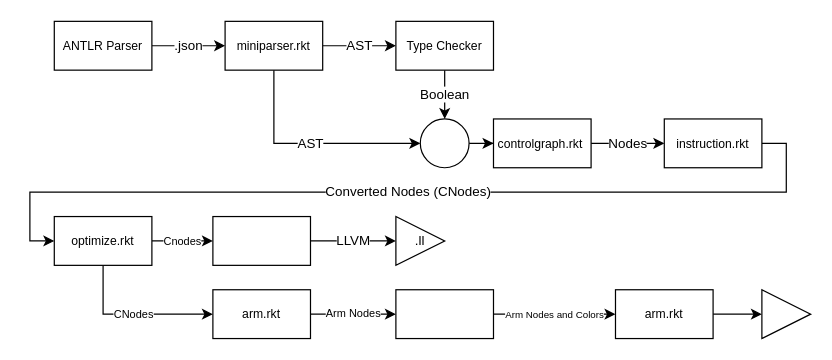
Image size: 832x360. Some labels were removed from this diagram. Each missing label, with the centre of its shape:
.S: pixel 786 314
makellvm.rkt: pixel 261 240
rallocator.rkt: pixel 444 314
stop?: pixel 444 143
